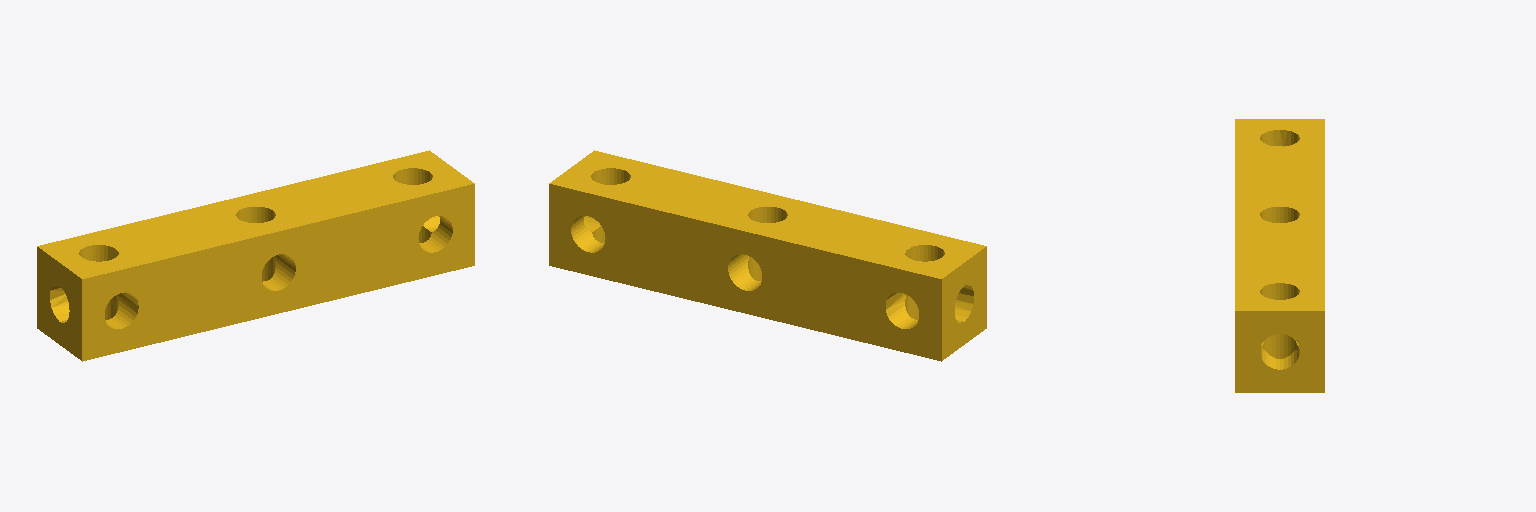
File: HolzquaderL1.obj
3 views of the same model, side by side, from view 1: azimuth 30°, elevation 25°; view 2: azimuth 150°, elevation 25°; view 3: azimuth 270°, elevation 25° (orthographic).
Parts seen in each view (by area): view 1: Holzquader_L.001_Cube.028; view 2: Holzquader_L.001_Cube.028; view 3: Holzquader_L.001_Cube.028.
Boxes of the visible parts, x1,y1,x2,y2 form: Holzquader_L.001_Cube.028: [37, 150, 474, 361]; Holzquader_L.001_Cube.028: [549, 150, 986, 361]; Holzquader_L.001_Cube.028: [1235, 119, 1324, 392].
Size of the model in its own units: 2.67 by 0.5332 by 0.5332.